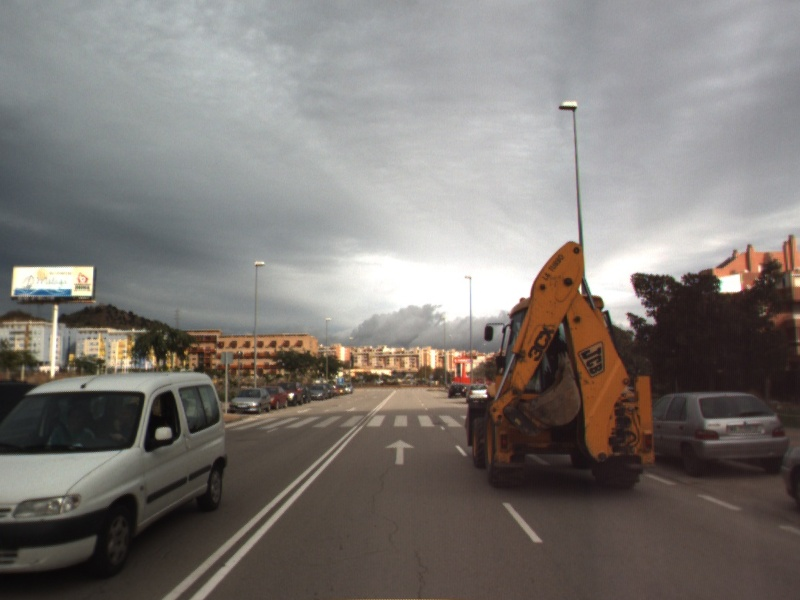STRAIGHT: (383, 438, 417, 466)
